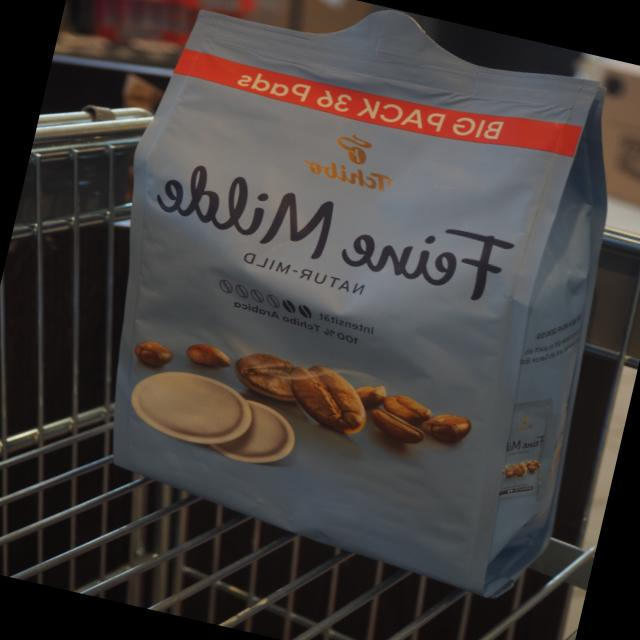FM 36 Pads: (44, 0, 640, 620)
